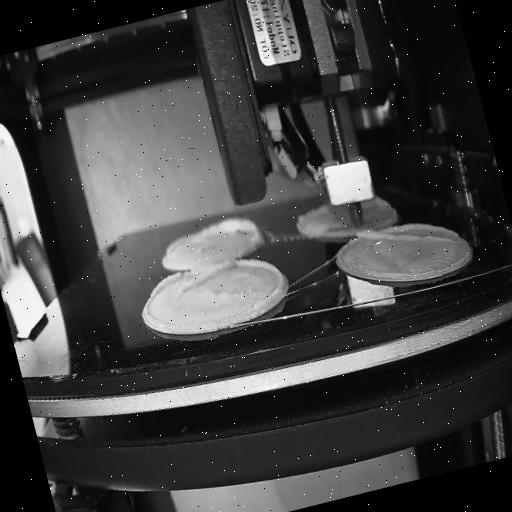over_extrusion: (356, 210, 454, 264), (147, 260, 235, 302), (233, 248, 290, 310), (202, 208, 262, 254), (164, 232, 198, 254)
